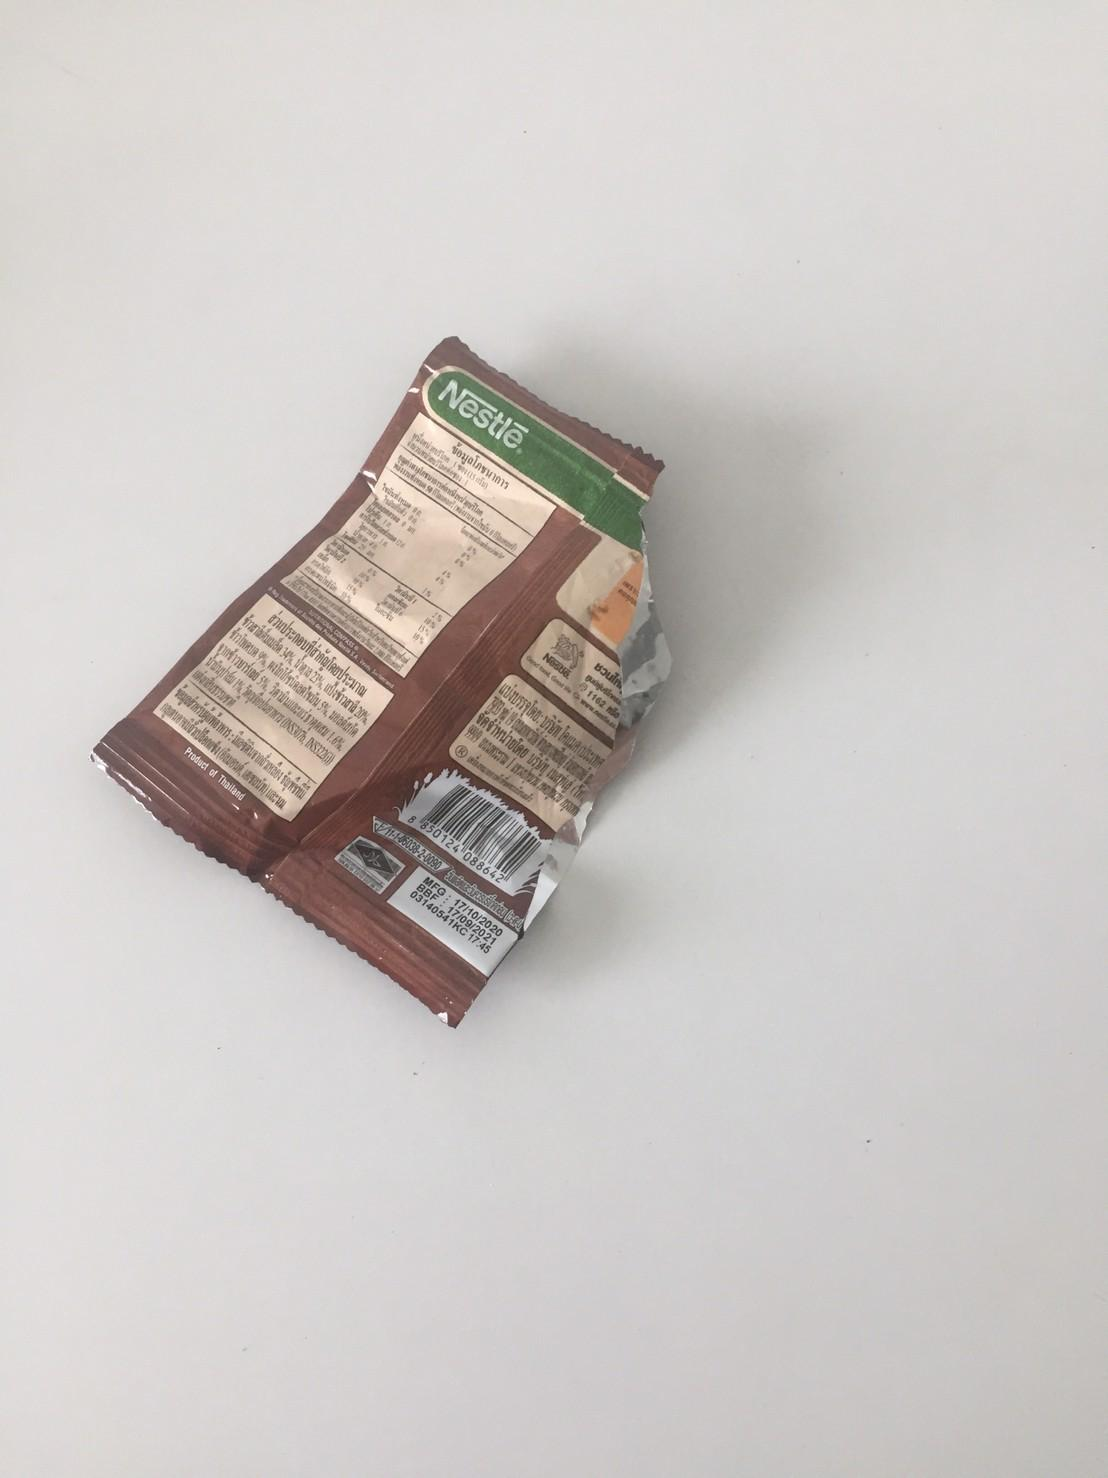plastic: (79, 320, 692, 1052)
